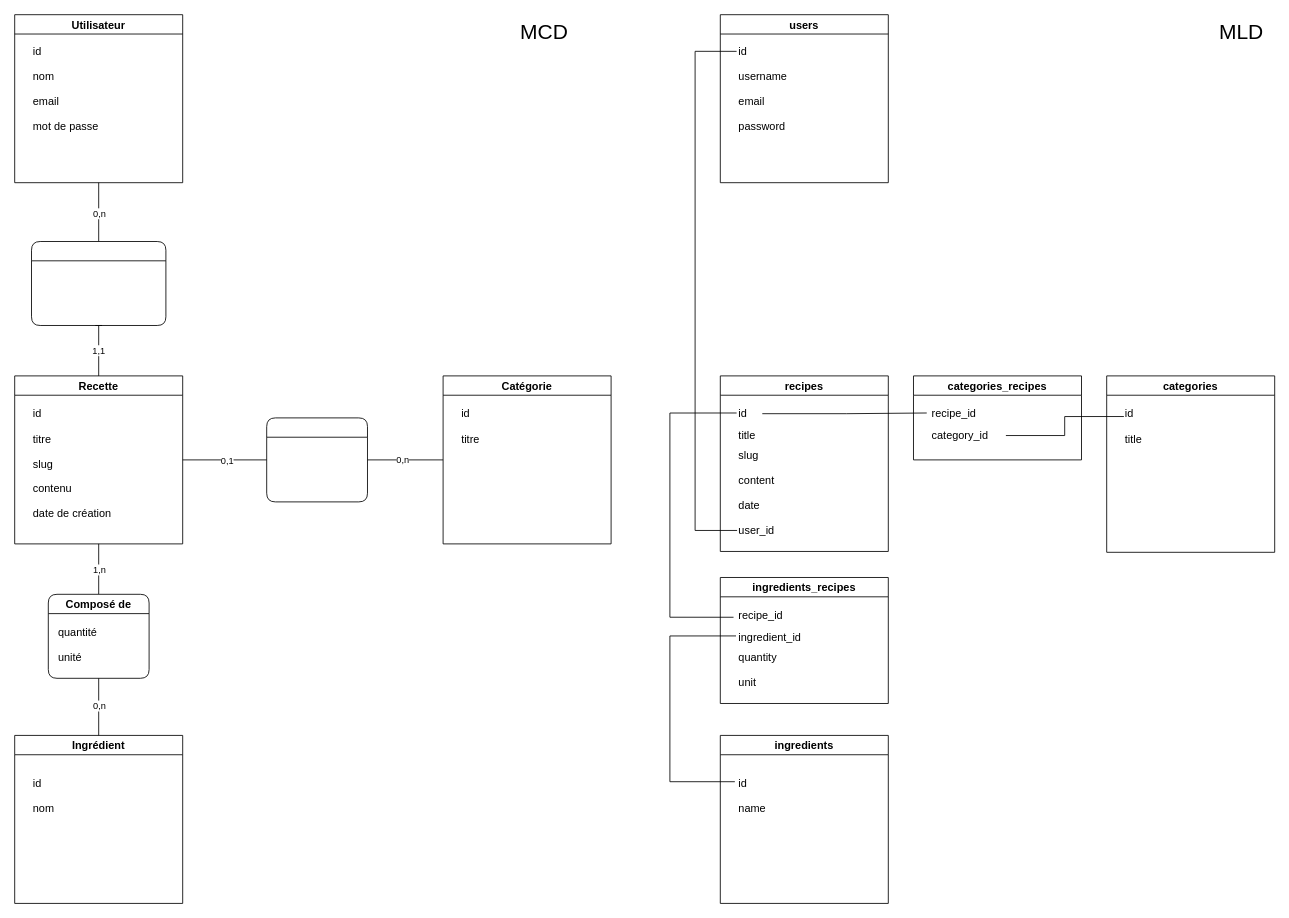
Image size: 1289x918. Some labels were removed from this diagram. The centre of each missing label's shape, as x and y in pixels:
Appartient: pixel 317 459
Créé: pixel 98 283
